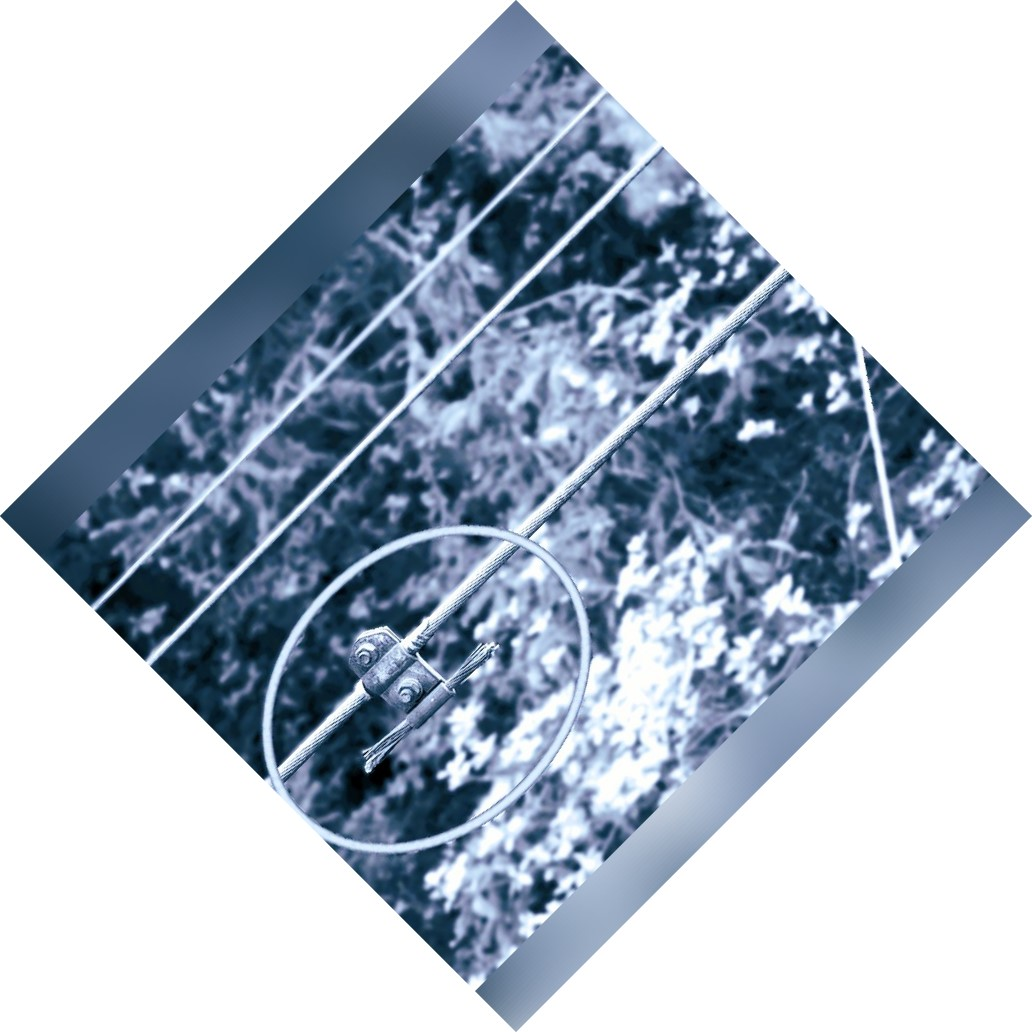Damage of shockproof hammer: (315, 616, 522, 776)
